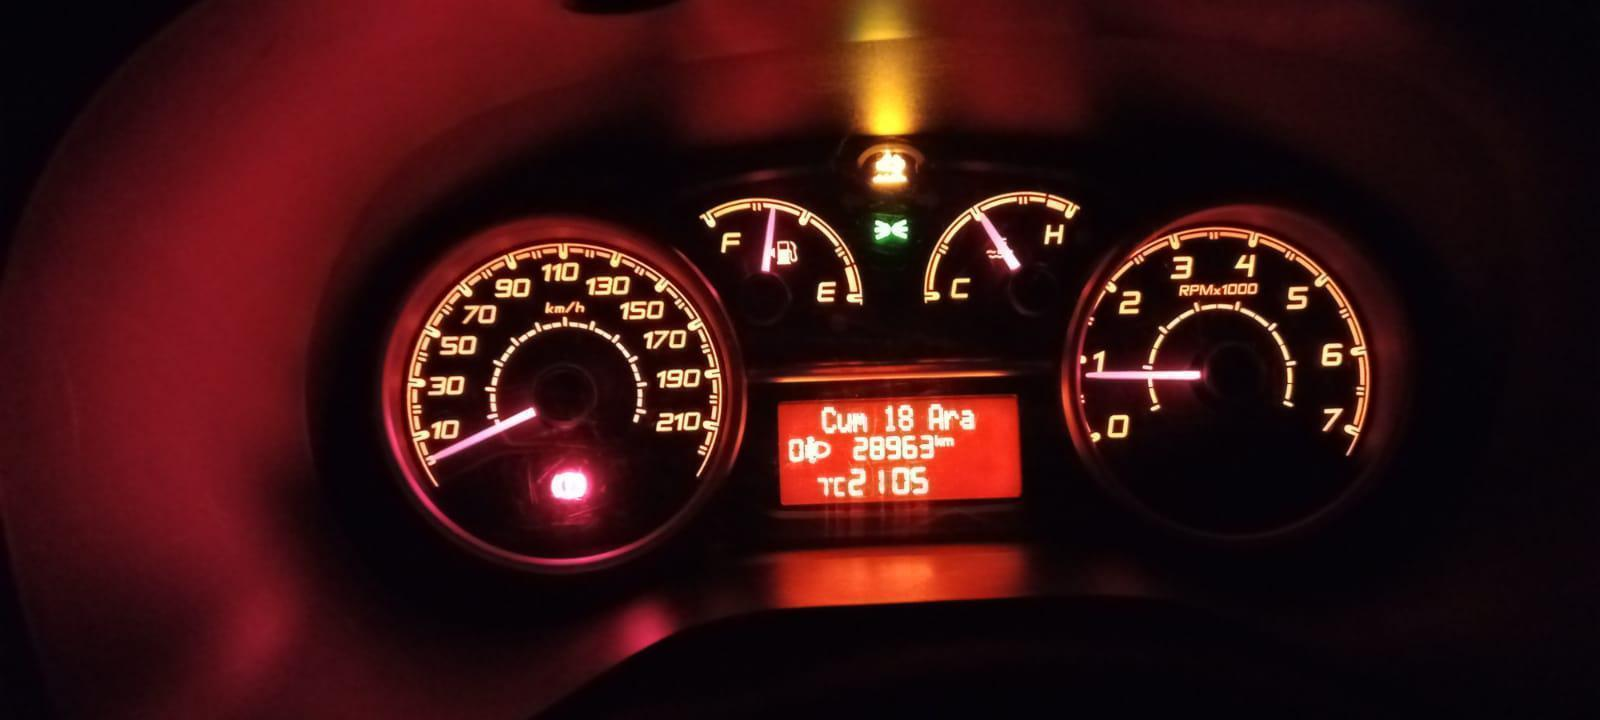0: (890, 466, 910, 496), (786, 438, 804, 463)
1: (882, 403, 896, 432), (876, 467, 886, 496)
2: (846, 466, 866, 497), (850, 435, 868, 461)
3: (918, 433, 933, 459)
5: (910, 465, 929, 495)
6: (902, 434, 917, 459)
7: (814, 476, 828, 497)
8: (896, 403, 914, 432), (868, 435, 885, 460)
9: (885, 435, 902, 460)
X: (924, 402, 943, 431), (819, 405, 836, 435), (958, 408, 977, 430), (943, 408, 959, 431), (852, 411, 868, 433), (836, 411, 852, 433), (833, 476, 846, 497), (942, 436, 955, 447), (934, 433, 942, 447), (828, 476, 833, 483)
odometer: (776, 392, 1024, 508)
